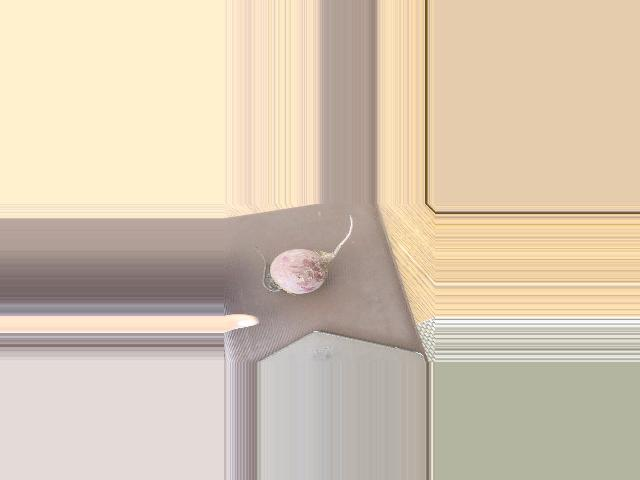beet: (255, 216, 353, 294)
